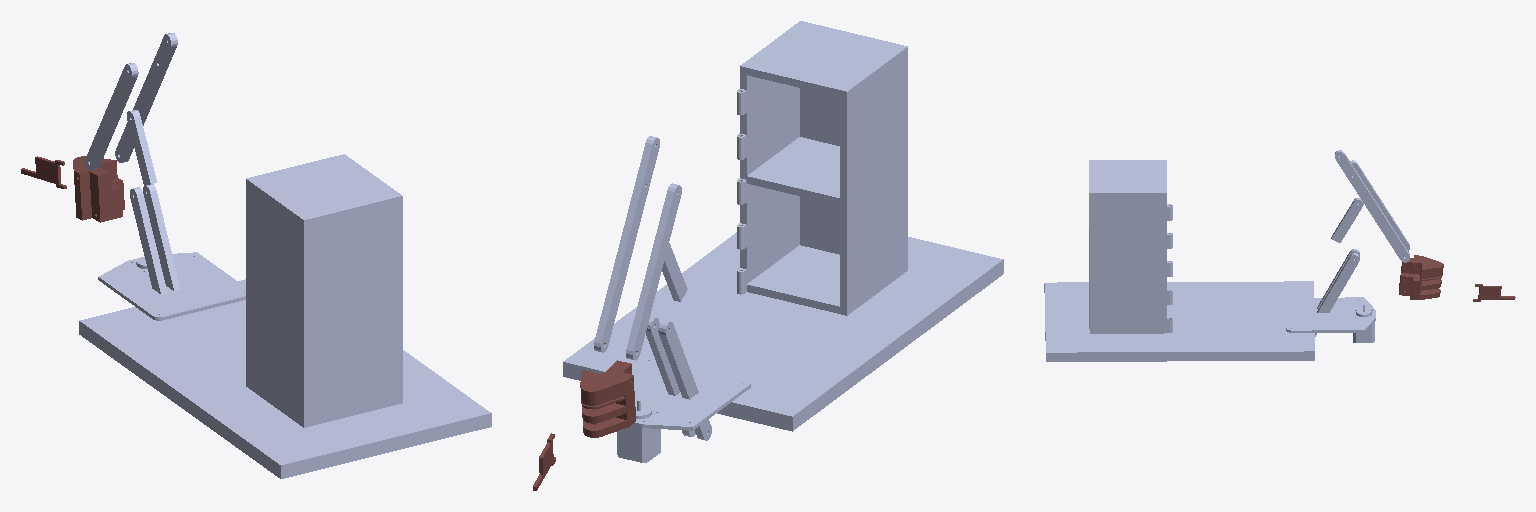
The robot description file, URDF, robot "fridge_bot":
<?xml version="1.0" encoding="utf-8"?>
<!-- This URDF was automatically created by SolidWorks to URDF Exporter! Originally created by [author] ([email redacted]) 
     Commit Version: 1.6.0-4-g7f85cfe  Build Version: 1.6.7995.38578
     For more information, please see http://wiki.ros.org/sw_urdf_exporter -->
<robot
  name="fridge_bot">
  <link
    name="base_link">
    <inertial>
      <origin
        xyz="0.065744341564924 0.045216580467112 0.0494910882181169"
        rpy="0 0 0" />
      <mass
        value="0.207046380810351" />
      <inertia
        ixx="0.000296100160478881"
        ixy="-2.96509727065676E-09"
        ixz="4.1481005406492E-07"
        iyy="0.000510587496763238"
        iyz="-2.58760118911616E-11"
        izz="0.000248571256331813" />
    </inertial>
    <visual>
      <origin
        xyz="0 0 0"
        rpy="0 0 0" />
      <geometry>
        <mesh
          filename="package://fridge_bot/meshes/base_link.STL" />
      </geometry>
      <material
        name="">
        <color
          rgba="0.792156862745098 0.819607843137255 0.933333333333333 1" />
      </material>
    </visual>
    <collision>
      <origin
        xyz="0 0 0"
        rpy="0 0 0" />
      <geometry>
        <mesh
          filename="package://fridge_bot/meshes/base_link.STL" />
      </geometry>
    </collision>
  </link>
  <link name="world" />

  <joint name="world_to_base_link=" type="fixed">
    <parent link="world"/>
    <child link="base_link"/>
    <origin
        xyz="0 0 -.9"
        rpy="-1.57 0 0" />
  </joint>
  <link
    name="Turning_link">
    <inertial>
      <origin
        xyz="-0.0267697026327348 0.00488148698796461 0.0222183347728628"
        rpy="0 0 0" />
      <mass
        value="0.19237125582213" />
      <inertia
        ixx="0.000135901413995399"
        ixy="-1.33820761853295E-06"
        ixz="2.84315818360693E-06"
        iyy="0.000156555561267971"
        iyz="2.6996128156746E-06"
        izz="0.000197919660234674" />
    </inertial>
    <visual>
      <origin
        xyz="0 0 0"
        rpy="0 0 0" />
      <geometry>
        <mesh
          filename="package://fridge_bot/meshes/Turning_link.STL" />
      </geometry>
      <material
        name="">
        <color
          rgba="0.792156862745098 0.819607843137255 0.933333333333333 1" />
      </material>
    </visual>
    <collision>
      <origin
        xyz="0 0 0"
        rpy="0 0 0" />
      <geometry>
        <mesh
          filename="package://fridge_bot/meshes/Turning_link.STL" />
      </geometry>
    </collision>
  </link>
  <joint
    name="J1"
    type="revolute">
    <origin
      xyz="0.06605 0.032302 0.014542"
      rpy="1.5708 -0.0040186 0" />
    <parent
      link="base_link" />
    <child
      link="Turning_link" />
    <axis
      xyz="0 0 -1" />
    <limit
      lower="0"
      upper="6.28"
      effort="0"
      velocity="0" />
  </joint>
  <link
    name="Lower_backlink">
    <inertial>
      <origin
        xyz="0.0414635494994407 6.93889390390723E-18 0.00499999999999996"
        rpy="0 0 0" />
      <mass
        value="0.0193744467859455" />
      <inertia
        ixx="8.00416835228504E-07"
        ixy="-3.3881317890172E-21"
        ixz="4.52614911442815E-21"
        iyy="1.54913654040111E-05"
        iyz="1.88996064051875E-22"
        izz="1.59688747928072E-05" />
    </inertial>
    <visual>
      <origin
        xyz="0 0 0"
        rpy="0 0 0" />
      <geometry>
        <mesh
          filename="package://fridge_bot/meshes/Lower_backlink.STL" />
      </geometry>
      <material
        name="">
        <color
          rgba="0.792156862745098 0.819607843137255 0.933333333333333 1" />
      </material>
    </visual>
    <collision>
      <origin
        xyz="0 0 0"
        rpy="0 0 0" />
      <geometry>
        <mesh
          filename="package://fridge_bot/meshes/Lower_backlink.STL" />
      </geometry>
    </collision>
  </link>
  <joint
    name="J2"
    type="continuous">
    <origin
      xyz="-0.0225 -0.022855 0.065355"
      rpy="-1.5708 -1.0628 1.5708" />
    <parent
      link="Turning_link" />
    <child
      link="Lower_backlink" />
    <axis
      xyz="0 0 -1" />
  </joint>
  <link
    name="Link1">
    <inertial>
      <origin
        xyz="-2.35922392732846E-16 -0.0999111796922045 -0.00999999999999946"
        rpy="0 0 0" />
      <mass
        value="0.0855737940510451" />
      <inertia
        ixx="0.000328606447348668"
        ixy="-8.20986684126231E-19"
        ixz="-4.72153637505962E-22"
        iyy="3.53584860057504E-06"
        iyz="-2.15784962745792E-16"
        izz="0.000330716066048393" />
    </inertial>
    <visual>
      <origin
        xyz="0 0 0"
        rpy="0 0 0" />
      <geometry>
        <mesh
          filename="package://fridge_bot/meshes/Link1.STL" />
      </geometry>
      <material
        name="">
        <color
          rgba="0.792156862745098 0.819607843137255 0.933333333333333 1" />
      </material>
    </visual>
    <collision>
      <origin
        xyz="0 0 0"
        rpy="0 0 0" />
      <geometry>
        <mesh
          filename="package://fridge_bot/meshes/Link1.STL" />
      </geometry>
    </collision>
  </link>
  <joint
    name="J3"
    type="revolute">
    <origin
      xyz="-0.0275 0.0125 0.03"
      rpy="-1.5708 0.49038 1.5708" />
    <parent
      link="Turning_link" />
    <child
      link="Link1" />
    <axis
      xyz="0 0 -1" />
    <limit
      lower="0"
      upper="6.28"
      effort="0"
      velocity="0" />
  </joint>
  <link
    name="Triangle">
    <inertial>
      <origin
        xyz="0.0128671162531902 0.0149668569116932 0.005"
        rpy="0 0 0" />
      <mass
        value="0.0191246861766036" />
      <inertia
        ixx="5.62289539865078E-06"
        ixy="2.73395813990835E-06"
        ixz="-5.92896539083225E-22"
        iyy="4.65318566936927E-06"
        iyz="5.42998781656638E-22"
        izz="9.95733629840999E-06" />
    </inertial>
    <visual>
      <origin
        xyz="0 0 0"
        rpy="0 0 0" />
      <geometry>
        <mesh
          filename="package://fridge_bot/meshes/Triangle.STL" />
      </geometry>
      <material
        name="">
        <color
          rgba="0.792156862745098 0.819607843137255 0.933333333333333 1" />
      </material>
    </visual>
    <collision>
      <origin
        xyz="0 0 0"
        rpy="0 0 0" />
      <geometry>
        <mesh
          filename="package://fridge_bot/meshes/Triangle.STL" />
      </geometry>
    </collision>
  </link>
  <joint
    name="J4"
    type="continuous">
    <origin
      xyz="0 -0.2 -0.015"
      rpy="0 0 3.0193" />
    <parent
      link="Link1" />
    <child
      link="Triangle" />
    <axis
      xyz="0 0 1" />
  </joint>
  <link
    name="Upper_backlink">
    <inertial>
      <origin
        xyz="0.0414635494994406 5.55111512312578E-16 0.00499999999999998"
        rpy="0 0 0" />
      <mass
        value="0.0193744467859455" />
      <inertia
        ixx="8.00416835228507E-07"
        ixy="1.07467305182889E-20"
        ixz="9.79827535050522E-22"
        iyy="1.54913654040111E-05"
        iyz="-2.98745253902473E-22"
        izz="1.59688747928072E-05" />
    </inertial>
    <visual>
      <origin
        xyz="0 0 0"
        rpy="0 0 0" />
      <geometry>
        <mesh
          filename="package://fridge_bot/meshes/Upper_backlink.STL" />
      </geometry>
      <material
        name="">
        <color
          rgba="0.792156862745098 0.819607843137255 0.933333333333333 1" />
      </material>
    </visual>
    <collision>
      <origin
        xyz="0 0 0"
        rpy="0 0 0" />
      <geometry>
        <mesh
          filename="package://fridge_bot/meshes/Upper_backlink.STL" />
      </geometry>
    </collision>
  </link>
  <joint
    name="J5"
    type="continuous">
    <origin
      xyz="0.045 0 0.02"
      rpy="3.1416 0 -1.4308" />
    <parent
      link="Triangle" />
    <child
      link="Upper_backlink" />
    <axis
      xyz="0 0 -1" />
  </joint>
  <link
    name="Upper_frontLink">
    <inertial>
      <origin
        xyz="0.0463904561233811 -6.45872244575685E-14 7.9956874454723E-14"
        rpy="0 0 0" />
      <mass
        value="0.0214124502395769" />
      <inertia
        ixx="8.8417413172566E-07"
        ixy="-2.26226618343863E-17"
        ixz="3.03411185861136E-17"
        iyy="2.08029877158262E-05"
        iyz="-6.48649465622115E-23"
        izz="2.13302876768923E-05" />
    </inertial>
    <visual>
      <origin
        xyz="0 0 0"
        rpy="0 0 0" />
      <geometry>
        <mesh
          filename="package://fridge_bot/meshes/Upper_frontLink.STL" />
      </geometry>
      <material
        name="">
        <color
          rgba="0.792156862745098 0.819607843137255 0.933333333333333 1" />
      </material>
    </visual>
    <collision>
      <origin
        xyz="0 0 0"
        rpy="0 0 0" />
      <geometry>
        <mesh
          filename="package://fridge_bot/meshes/Upper_frontLink.STL" />
      </geometry>
    </collision>
  </link>
  <joint
    name="J6"
    type="continuous">
    <origin
      xyz="0 0.05 -0.005"
      rpy="3.1416 0 -2.48" />
    <parent
      link="Triangle" />
    <child
      link="Upper_frontLink" />
    <axis
      xyz="0 0 -1" />
  </joint>
  <link
    name="Link2">
    <inertial>
      <origin
        xyz="2.77555756156289E-17 -0.0863342210093204 0.0247054628952012"
        rpy="0 0 0" />
      <mass
        value="0.0953394410565643" />
      <inertia
        ixx="0.000470411650298866"
        ixy="5.4315987742682E-19"
        ixz="1.51753137276197E-21"
        iyy="3.95014826174653E-06"
        iyz="-3.09405752680569E-16"
        izz="0.000472772807876337" />
    </inertial>
    <visual>
      <origin
        xyz="0 0 0"
        rpy="0 0 0" />
      <geometry>
        <mesh
          filename="package://fridge_bot/meshes/Link2.STL" />
      </geometry>
      <material
        name="">
        <color
          rgba="0.792156862745098 0.819607843137255 0.933333333333333 1" />
      </material>
    </visual>
    <collision>
      <origin
        xyz="0 0 0"
        rpy="0 0 0" />
      <geometry>
        <mesh
          filename="package://fridge_bot/meshes/Link2.STL" />
      </geometry>
    </collision>
  </link>
  <joint
    name="J7"
    type="revolute">
    <origin
      xyz="0 -0.2 0.01"
      rpy="3.1416 0 -1.0177" />
    <parent
      link="Link1" />
    <child
      link="Link2" />
    <axis
      xyz="0 0 -1" />
    <limit
      lower="0"
      upper="6.28"
      effort="0"
      velocity="0" />
  </joint>
  <link
    name="Back_gripper">
    <inertial>
      <origin
        xyz="-0.0250028133017936 0.0239301160957177 0.00141734074678103"
        rpy="0 0 0" />
      <mass
        value="1.53802958602338" />
      <inertia
        ixx="0.000909413538569685"
        ixy="8.26533997142431E-05"
        ixz="-2.76680034671548E-05"
        iyy="0.000912566548096114"
        iyz="-4.94357740447193E-05"
        izz="0.00115501581802408" />
    </inertial>
    <visual>
      <origin
        xyz="0 0 0"
        rpy="0 0 0" />
      <geometry>
        <mesh
          filename="package://fridge_bot/meshes/Back_gripper.STL" />
      </geometry>
      <material
        name="">
        <color
          rgba="0.537254901960784 0.349019607843137 0.337254901960784 1" />
      </material>
    </visual>
    <collision>
      <origin
        xyz="0 0 0"
        rpy="0 0 0" />
      <geometry>
        <mesh
          filename="package://fridge_bot/meshes/Back_gripper.STL" />
      </geometry>
    </collision>
  </link>
  <joint
    name="J8"
    type="continuous">
    <origin
      xyz="0 -0.2 0.022327"
      rpy="3.1416 0 2.5048" />
    <parent
      link="Link2" />
    <child
      link="Back_gripper" />
    <axis
      xyz="0 0 1" />
  </joint>
  <link
    name="front_halfgripper">
    <inertial>
      <origin
        xyz="-0.000216464748702024 0.0283235783013315 0.0142900639859031"
        rpy="0 0 0" />
      <mass
        value="0.558596679661737" />
      <inertia
        ixx="0.000309404274315498"
        ixy="-3.91459968046766E-05"
        ixz="3.65468624887361E-06"
        iyy="0.000256279098899188"
        iyz="8.07700601429671E-06"
        izz="0.00046459335100017" />
    </inertial>
    <visual>
      <origin
        xyz="0 0 0"
        rpy="0 0 0" />
      <geometry>
        <mesh
          filename="package://fridge_bot/meshes/front_halfgripper.STL" />
      </geometry>
      <material
        name="">
        <color
          rgba="0.537254901960784 0.349019607843137 0.337254901960784 1" />
      </material>
    </visual>
    <collision>
      <origin
        xyz="0 0 0"
        rpy="0 0 0" />
      <geometry>
        <mesh
          filename="package://fridge_bot/meshes/front_halfgripper.STL" />
      </geometry>
    </collision>
  </link>
  <joint
    name="J9"
    type="revolute">
    <origin
      xyz="-0.054 0.0035 -8.2845E-05"
      rpy="1.5708 1.5515 -3.1416" />
    <parent
      link="Back_gripper" />
    <child
      link="front_halfgripper" />
    <axis
      xyz="0 0.00012782 1" />
    <limit
      lower="0"
      upper="6.28"
      effort="0"
      velocity="0" />
  </joint>
  <link
    name="gripper">
    <inertial>
      <origin
        xyz="0.0309607104904638 -4.59355418679364E-05 0.017144407490665"
        rpy="0 0 0" />
      <mass
        value="0.0686737389522782" />
      <inertia
        ixx="6.40644623542164E-06"
        ixy="-1.58915253493507E-10"
        ixz="3.10523081266725E-06"
        iyy="2.87092893917181E-05"
        iyz="3.68993537350604E-11"
        izz="2.25895985442529E-05" />
    </inertial>
    <visual>
      <origin
        xyz="0 0 0"
        rpy="0 0 0" />
      <geometry>
        <mesh
          filename="package://fridge_bot/meshes/gripper.STL" />
      </geometry>
      <material
        name="">
        <color
          rgba="0.537254901960784 0.349019607843137 0.337254901960784 1" />
      </material>
    </visual>
    <collision>
      <origin
        xyz="0 0 0"
        rpy="0 0 0" />
      <geometry>
        <mesh
          filename="package://fridge_bot/meshes/gripper.STL" />
      </geometry>
    </collision>
  </link>
  <joint
    name="J10"
    type="revolute">
    <origin
      xyz="0.012523 0.027447 -0.004"
      rpy="0 0 1.7772" />
    <parent
      link="front_halfgripper" />
    <child
      link="gripper" />
    <axis
      xyz="-0.0001246 2.8609E-05 -1" />
    <limit
      lower="0"
      upper="6.28"
      effort="0"
      velocity="0" />
  </joint>
  <link
    name="Lower_frontlink">
    <inertial>
      <origin
        xyz="0.0463904561233882 -6.10067552031524E-14 7.99707522425308E-14"
        rpy="0 0 0" />
      <mass
        value="0.0214124502395769" />
      <inertia
        ixx="8.84174131725665E-07"
        ixy="-2.26162561477226E-17"
        ixz="3.03388488913352E-17"
        iyy="2.08029877158262E-05"
        iyz="8.13942229557454E-23"
        izz="2.13302876768922E-05" />
    </inertial>
    <visual>
      <origin
        xyz="0 0 0"
        rpy="0 0 0" />
      <geometry>
        <mesh
          filename="package://fridge_bot/meshes/Lower_frontlink.STL" />
      </geometry>
      <material
        name="">
        <color
          rgba="0.792156862745098 0.819607843137255 0.933333333333333 1" />
      </material>
    </visual>
    <collision>
      <origin
        xyz="0 0 0"
        rpy="0 0 0" />
      <geometry>
        <mesh
          filename="package://fridge_bot/meshes/Lower_frontlink.STL" />
      </geometry>
    </collision>
  </link>
  <joint
    name="J11"
    type="continuous">
    <origin
      xyz="-0.015 0.05 -0.0074928"
      rpy="-3.1416 0 0.92013" />
    <parent
      link="Back_gripper" />
    <child
      link="Lower_frontlink" />
    <axis
      xyz="0 0 -1" />
  </joint>
  <gazebo>
    <joint name='J21' type='fixed'>
      <child>Lower_backlink</child>
      <parent>Upper_backlink</parent>
    </joint>
    <joint name='J22' type='fixed'>
      <child>Lower_frontlink</child>
      <parent>Upper_frontLink</parent>
    </joint>
  </gazebo>
</robot>

--- Facts derived from the render (not from the file) ---
3 views of the same robot in one strip: view 1: azimuth 30°, elevation 25°; view 2: azimuth 150°, elevation 25°; view 3: azimuth 270°, elevation 25° (orthographic).
Model fridge_bot with 13 links and 12 joints (5 revolute, 6 continuous, 1 fixed), rooted at world, posed every joint at zero.
Links seen in each view (by area): view 1: base_link, Link2, Link1, Back_gripper, Upper_backlink, gripper; view 2: base_link, Link2, Back_gripper, Link1, Upper_backlink, gripper; view 3: base_link, Link2, Back_gripper, Link1, Upper_backlink.
Boxes of the visible links, x1=… form: base_link: x1=79, y1=154, x2=491, y2=478; Link2: x1=86, y1=33, x2=177, y2=169; Link1: x1=130, y1=184, x2=180, y2=294; Back_gripper: x1=73, y1=156, x2=124, y2=222; Upper_backlink: x1=127, y1=110, x2=156, y2=185; gripper: x1=21, y1=156, x2=66, y2=188; base_link: x1=563, y1=21, x2=1003, y2=462; Link2: x1=594, y1=136, x2=681, y2=360; Back_gripper: x1=580, y1=360, x2=635, y2=437; Link1: x1=646, y1=316, x2=711, y2=440; Upper_backlink: x1=662, y1=243, x2=687, y2=301; gripper: x1=533, y1=433, x2=555, y2=490; base_link: x1=1044, y1=160, x2=1375, y2=361; Link2: x1=1335, y1=150, x2=1409, y2=262; Back_gripper: x1=1399, y1=255, x2=1443, y2=299; Link1: x1=1315, y1=249, x2=1359, y2=336; Upper_backlink: x1=1331, y1=198, x2=1363, y2=242.
Bounding box of the posed robot: 0.3245 × 0.9089 × 0.4228 m (x, y, z).
Meshes: 12 distinct files referenced, 6 mesh visuals loaded (6 binary STL); not drawn: 6 (reference not matched to a file when rendering).